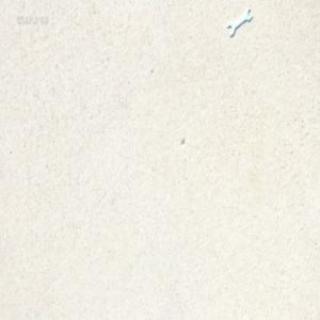Wrenchtrack_idkeyframe: (223, 9, 250, 38)
